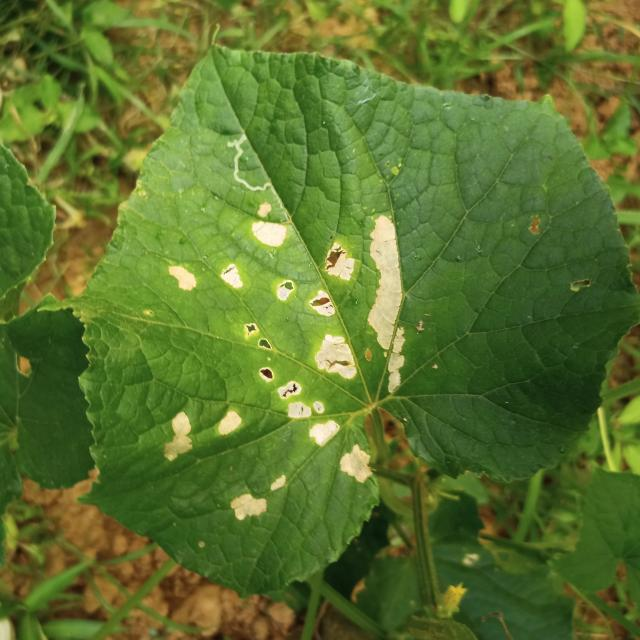disease_cucumber: (165, 203, 406, 485), (163, 402, 244, 468), (228, 473, 291, 529)
